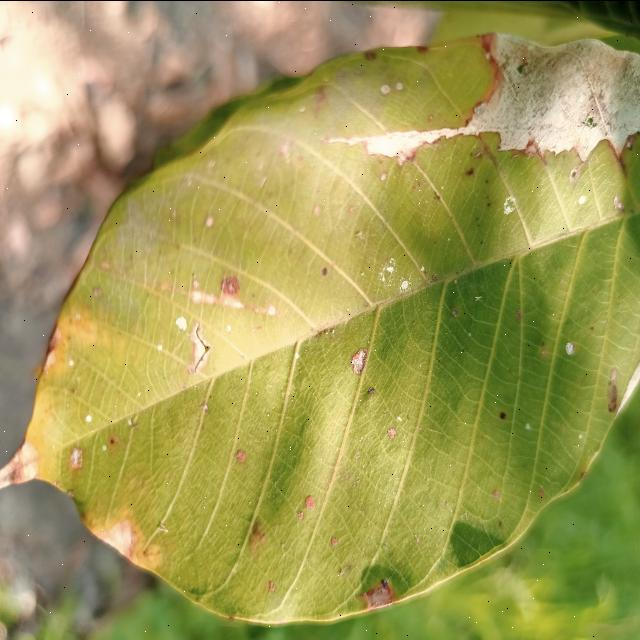Colletotrichum: (322, 266, 328, 276), (499, 411, 506, 418)
Leaf-Blight: (323, 32, 640, 176), (616, 286, 640, 417), (0, 443, 40, 487), (98, 519, 136, 557)
